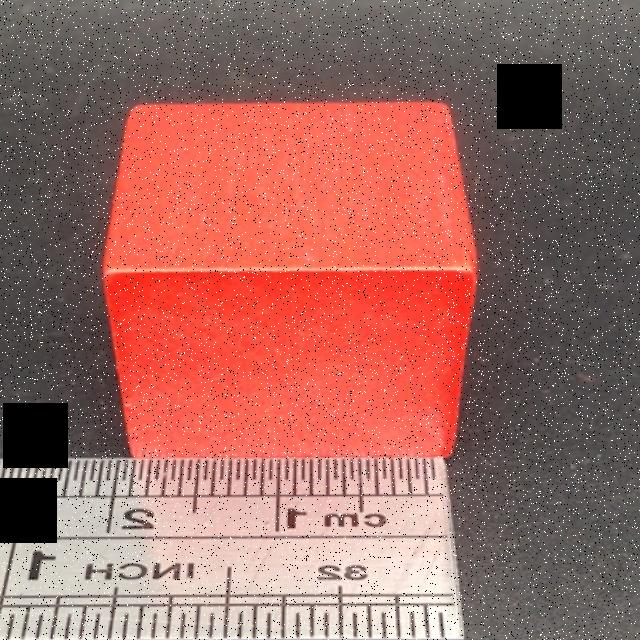red cube: (99, 100, 480, 458)
